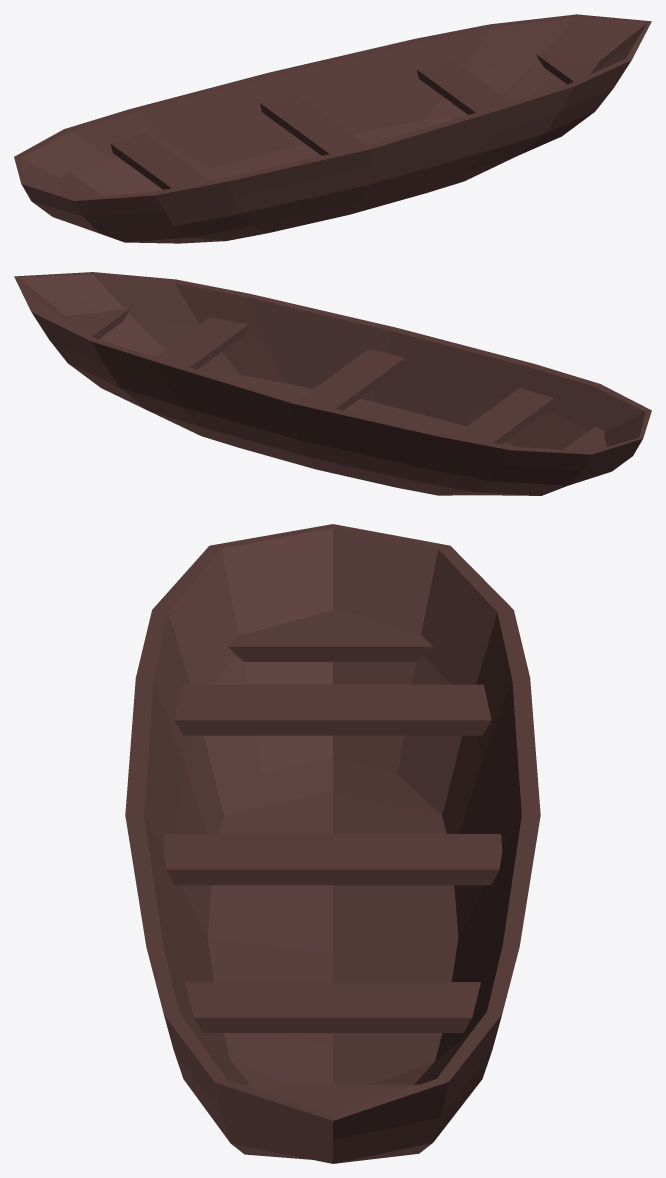
File: canoa simples.fbx
3 renders of one model, top to bottom at view 1: azimuth 30°, elevation 25°; view 2: azimuth 150°, elevation 25°; view 3: azimuth 270°, elevation 25°, orthographic. The views are drawn at different scales.
Parts seen in each view (by area): view 1: Cubo, Cubo.001, Cubo.002, Cubo.003, Cubo.004, Cubo.005; view 2: Cubo, Cubo.001, Cubo.002, Cubo.003, Cubo.004, Cubo.005; view 3: Cubo, Cubo.001, Cubo.002, Cubo.003, Cubo.005, Cubo.004.
Part boxes in pixels (x1,y1,x2,y2): Cubo: (14,14,651,243); Cubo.001: (260,94,366,155); Cubo.002: (110,133,209,189); Cubo.003: (417,62,509,114); Cubo.004: (536,54,598,84); Cubo.005: (56,172,101,197); Cubo: (14,272,651,495); Cubo.001: (298,349,404,410); Cubo.002: (455,388,553,444); Cubo.003: (155,317,248,369); Cubo.004: (67,309,129,339); Cubo.005: (563,426,606,451); Cubo: (125,524,540,1163); Cubo.001: (163,834,502,885); Cubo.002: (174,684,491,735); Cubo.003: (185,982,480,1032); Cubo.005: (228,609,432,661); Cubo.004: (243,1084,418,1137).
Size of the model in its own units: 547 by 75.32 by 156.
